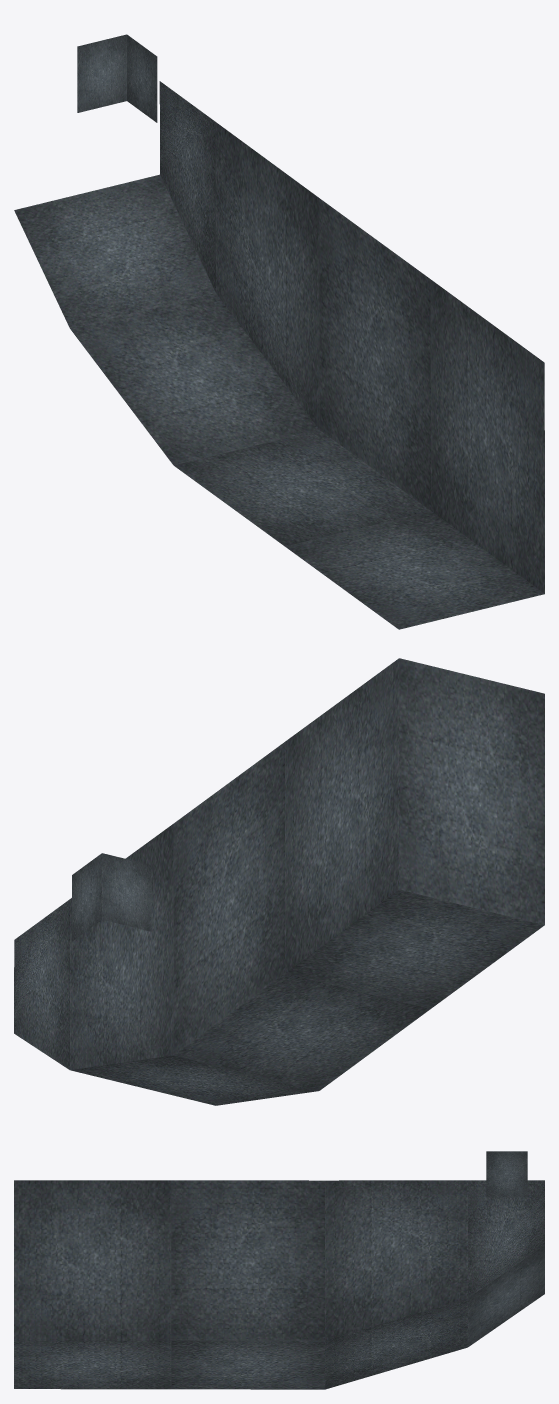
The model's file is Secret Room.glb.
3 views of the same model, one above another, from view 1: azimuth 30°, elevation 25°; view 2: azimuth 150°, elevation 25°; view 3: azimuth 270°, elevation 25° (orthographic). The views are drawn at different scales.
Visible parts, largest first — view 1: Secret Room; view 2: Secret Room; view 3: Secret Room.
Boxes of the visible parts, x1,y1,x2,y2 form: Secret Room: [14, 34, 544, 629]; Secret Room: [14, 658, 544, 1105]; Secret Room: [14, 1151, 544, 1389].
Size of the model in its own units: 584 by 1143 by 2669.
1 material, 1 textured.
